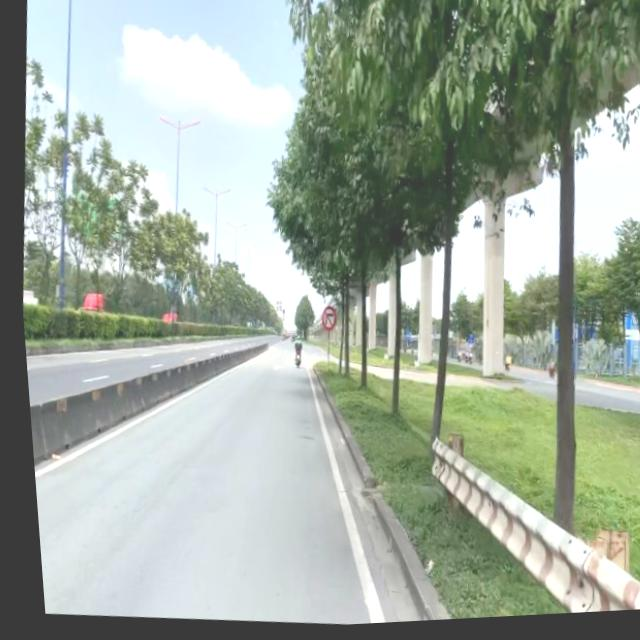Cam re phai: (314, 307, 332, 335)
